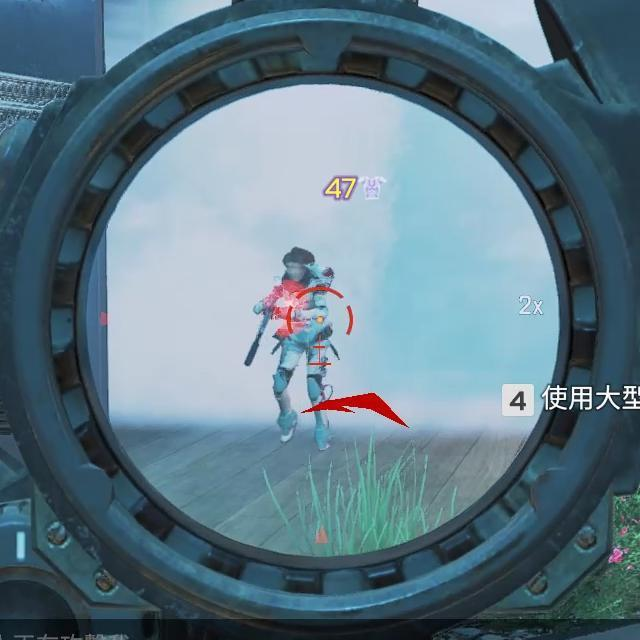avatar: (268, 245, 336, 453)
object: (263, 280, 309, 338)
